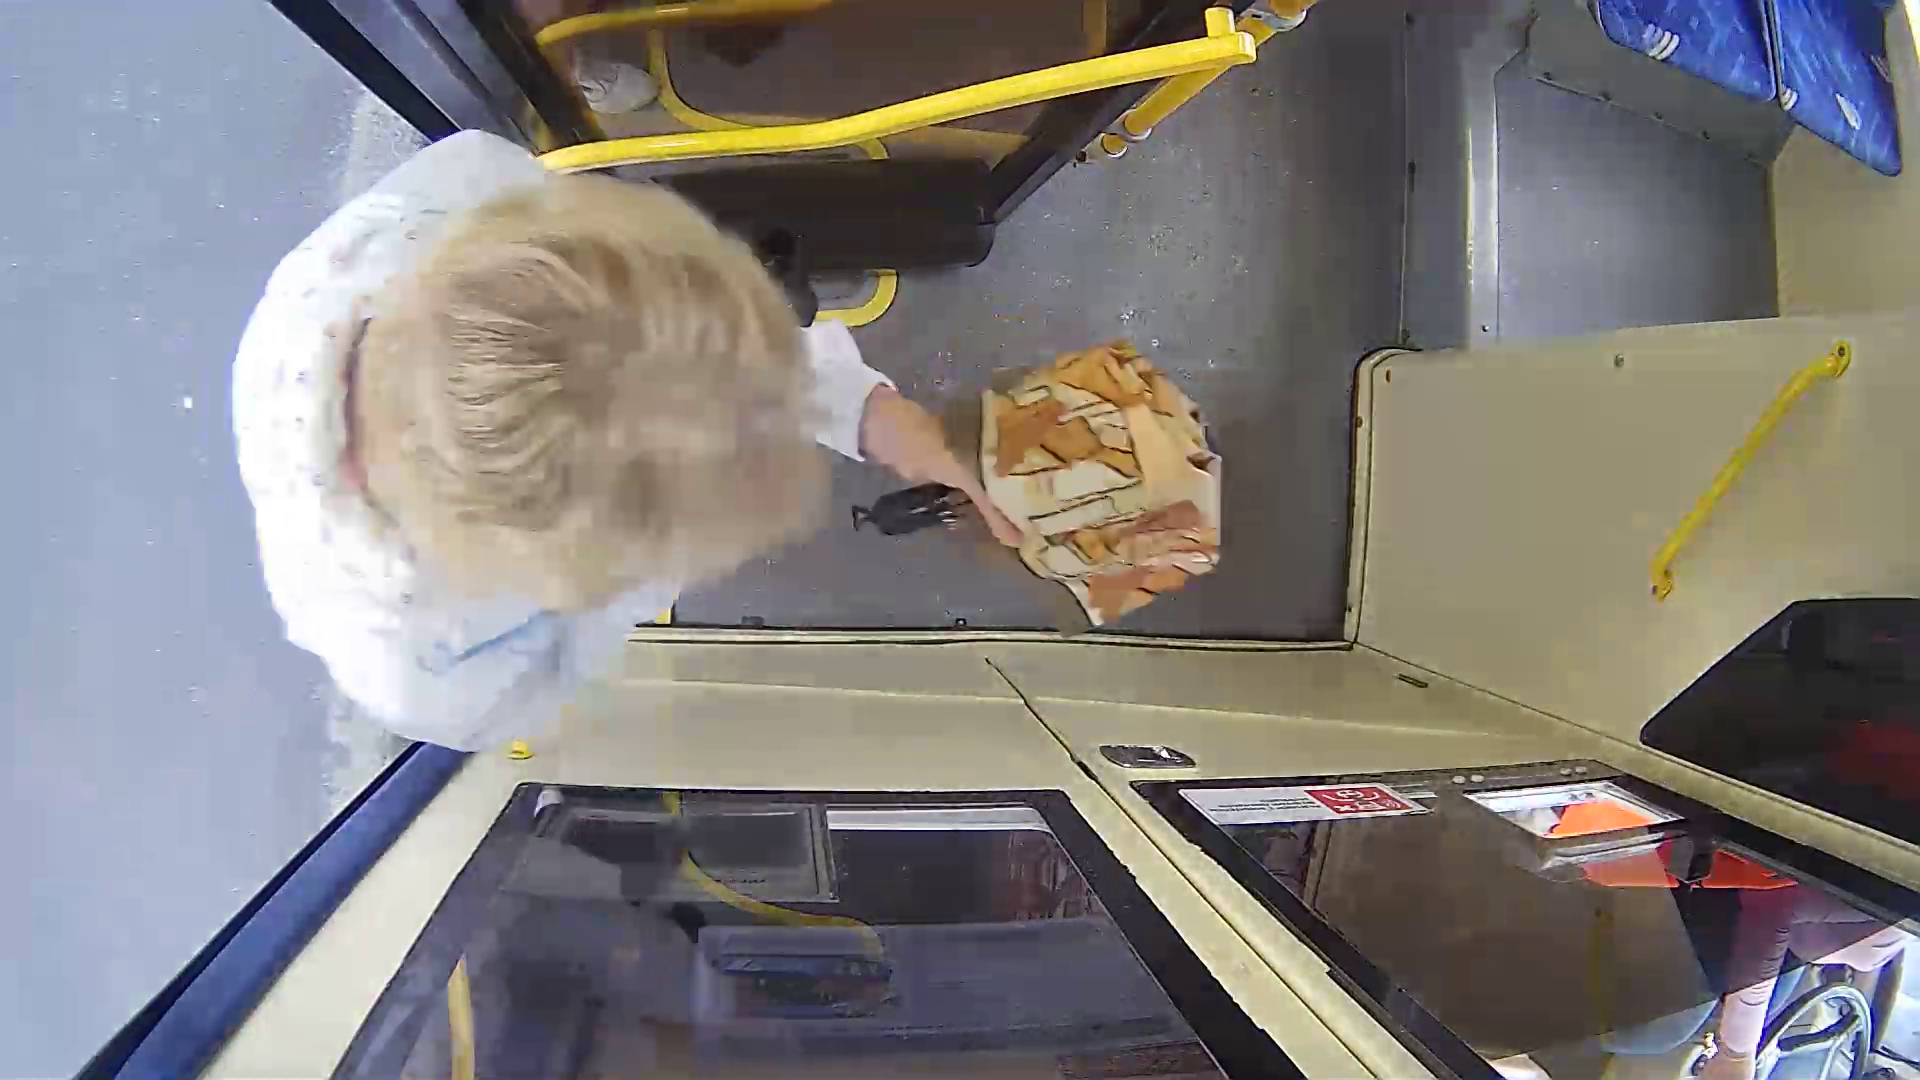person: (223, 122, 1245, 755)
